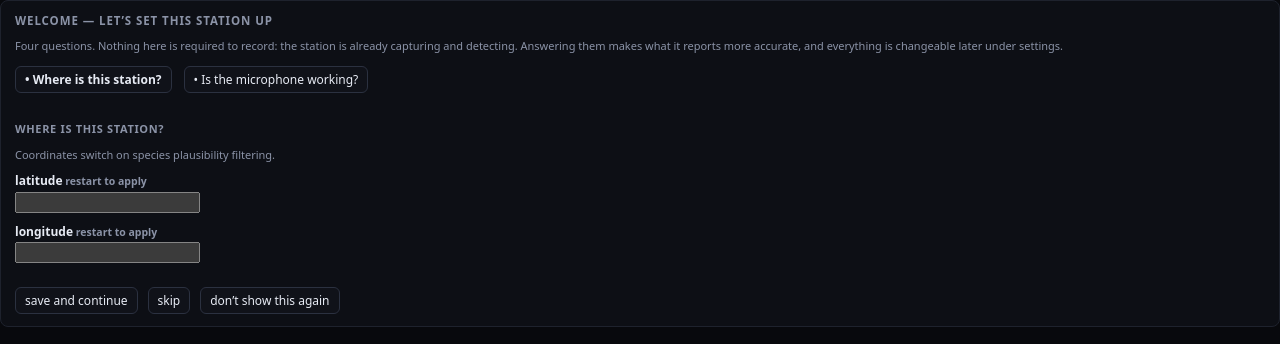
Scenario: FirstRun › reports a synthetic source honestly rather than ticking the box
Expected: the heading "Where is this station?" is shown, [15,121,164,136]
Click the button "• Is the microphone working?" at coordinates (276, 79), box [184,66,368,93]
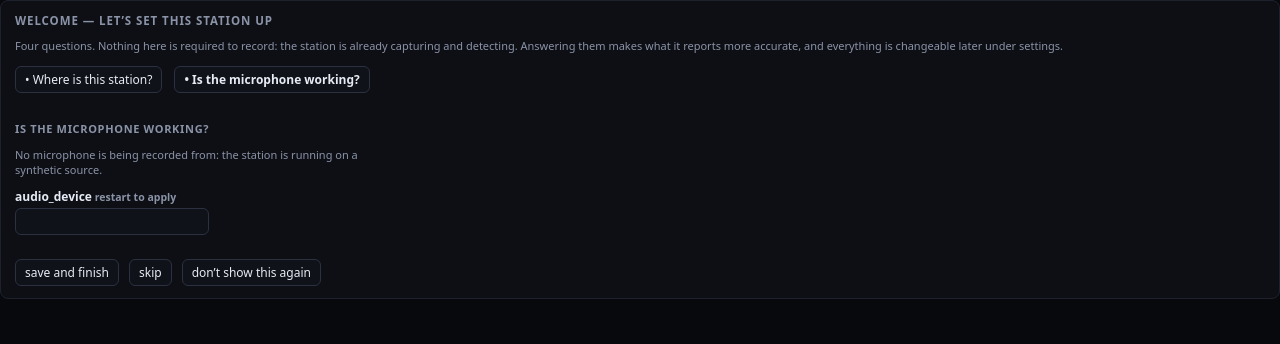
Now the text "running on a synthetic source" is shown, box [15,146,358,177]
